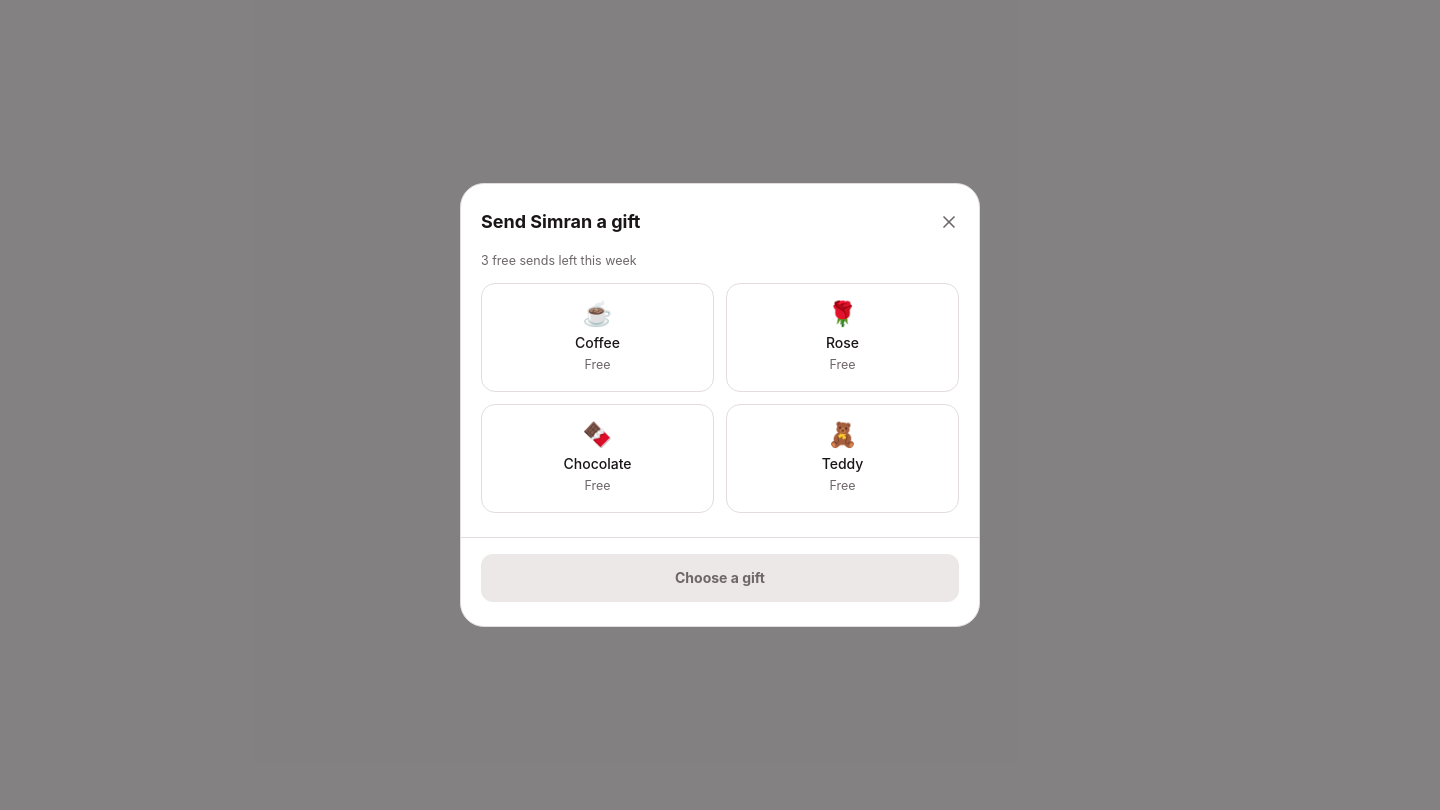
the gift sheet (T-8.10) › shows the four gifts free while a free send is left, and sends price 0
The image size is (1440, 810).
Step 1. Click the button "🌹 Rose Free" → [842, 337], box x1=726 y1=283 x2=959 y2=392
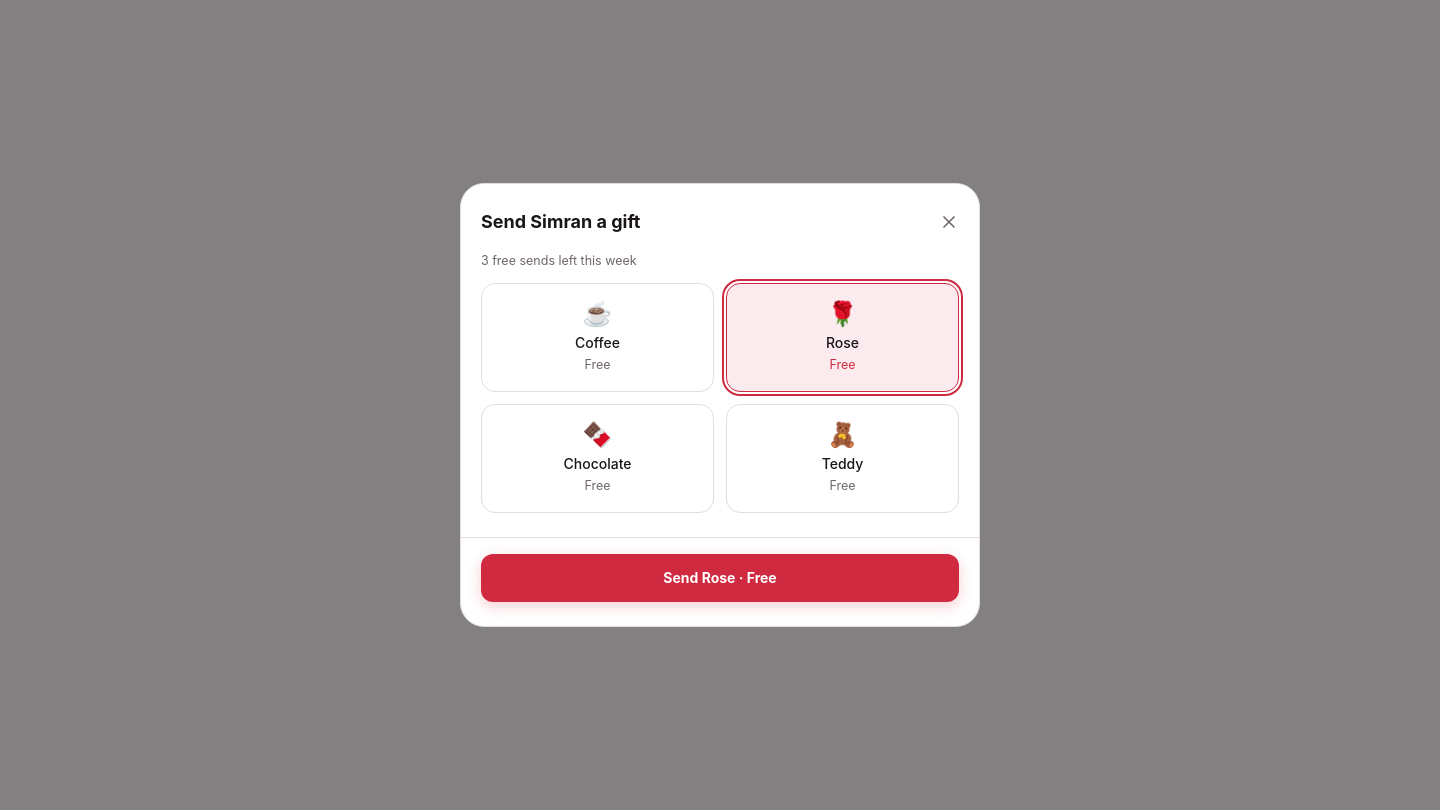
Step 2. Click the button "Send Rose · Free" → [720, 578], box x1=481 y1=554 x2=959 y2=602
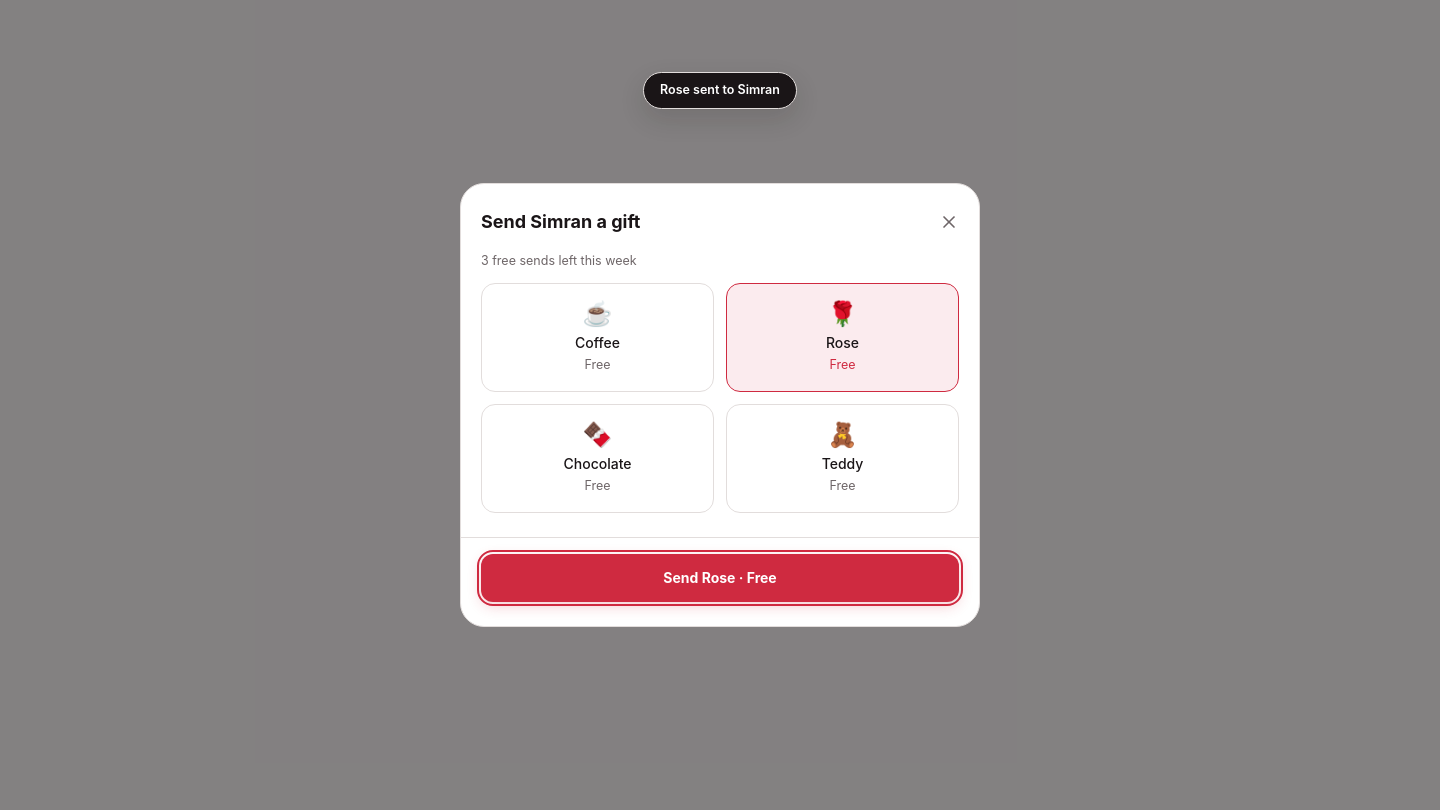
expect the text "Rose sent to Simran" is shown: met, box x1=660 y1=81 x2=780 y2=100
